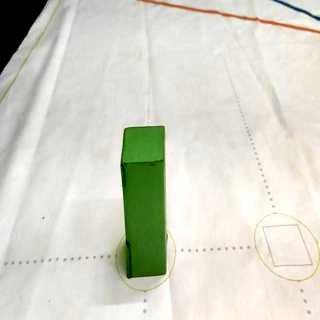greenbox: (122, 125, 166, 279)
